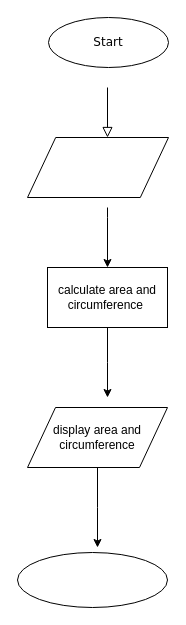
The diagram is 186 pixels wide and 625 high, and some of its shapes have lost their labels. The box of each missing label's shape, as (x1, y1, x2, y2) in pixels:
read radius: (26, 136, 168, 198)
stop: (16, 552, 168, 608)
